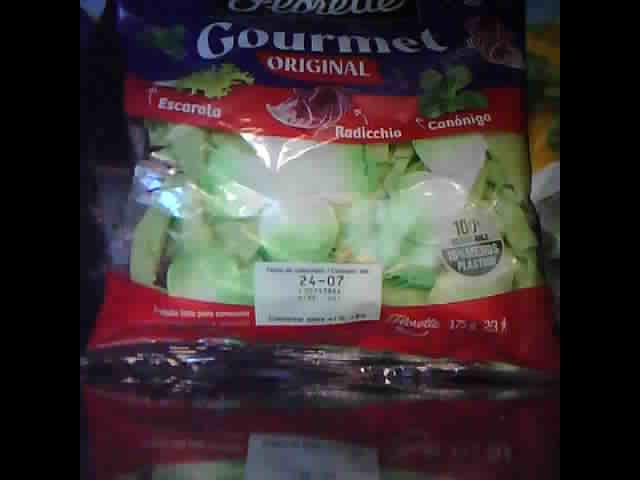florette: (82, 1, 559, 382), (519, 1, 558, 310)
